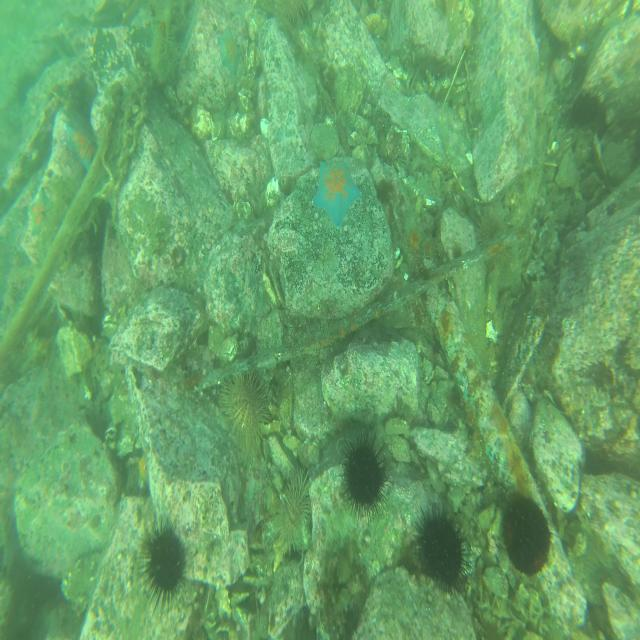echinus: (416, 508, 466, 589), (140, 521, 188, 605), (342, 432, 391, 514), (504, 494, 550, 574), (224, 369, 266, 453), (279, 472, 310, 548)
starfish: (312, 156, 361, 229), (65, 119, 98, 171), (218, 27, 244, 75)
